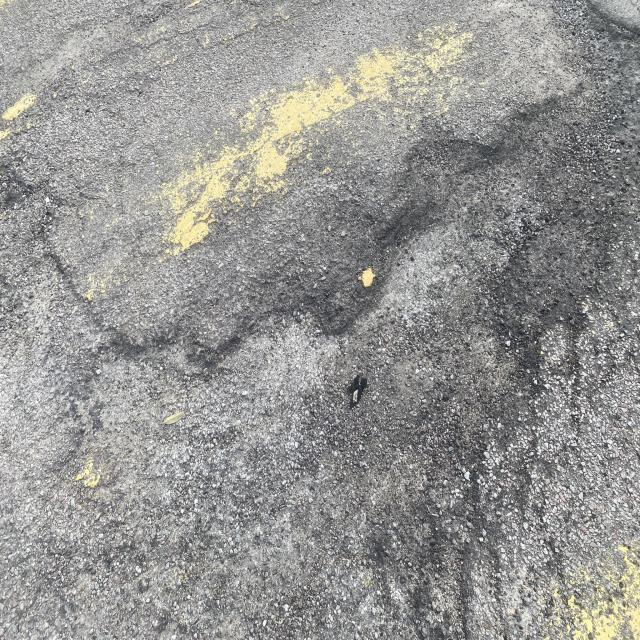Pothole: (304, 109, 547, 474)
